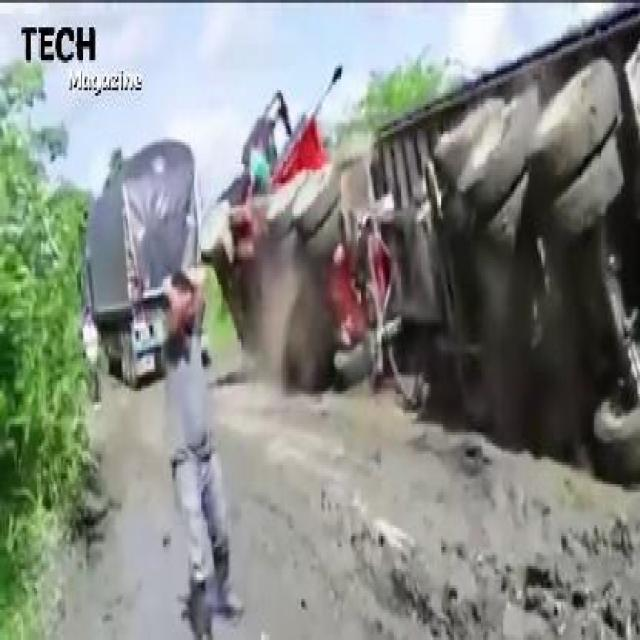accident: (190, 8, 638, 487)
